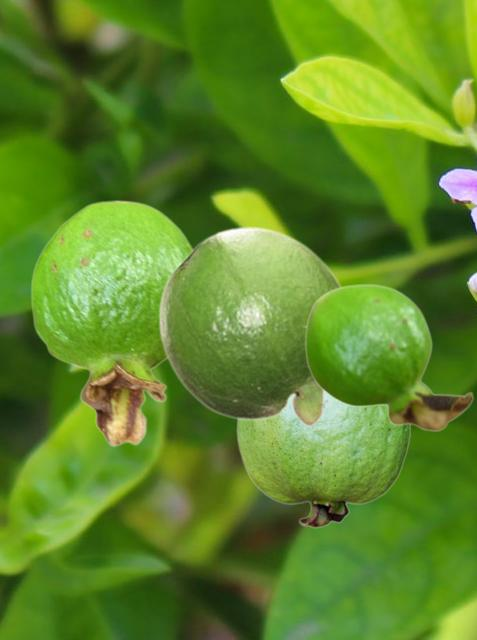guava: (30, 199, 192, 446), (157, 225, 341, 427), (304, 283, 473, 431), (236, 395, 410, 527)
